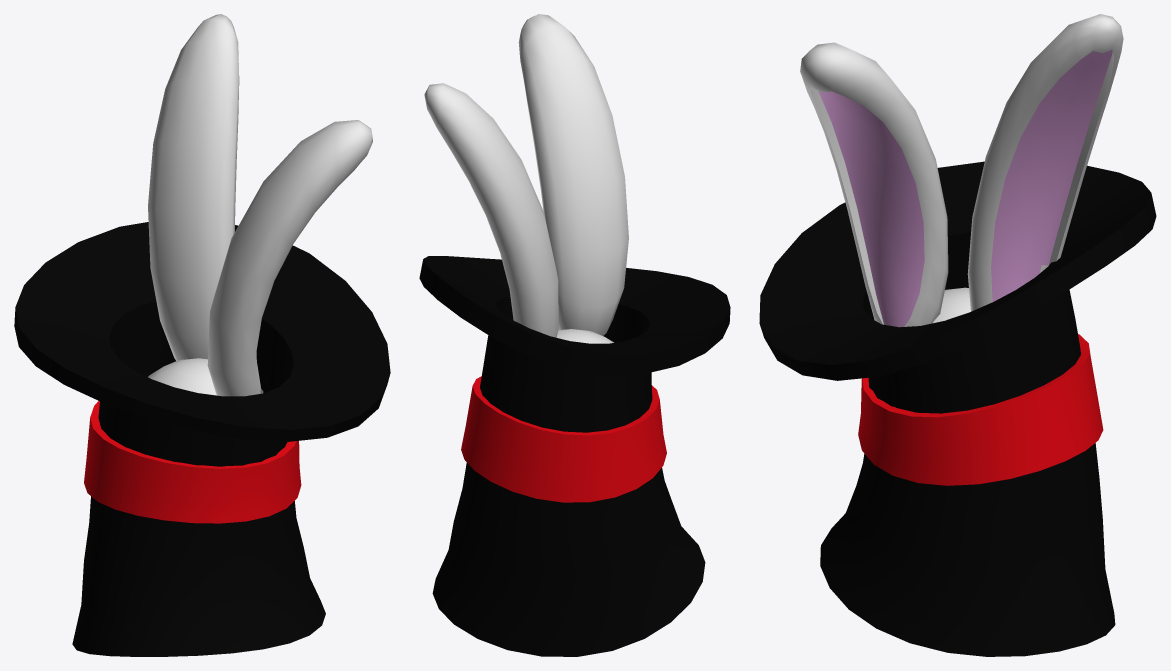
The model's file is Vendedor Rojo.fbx.
The picture shows the model from 3 angles, left to right: view 1: azimuth 30°, elevation 25°; view 2: azimuth 150°, elevation 25°; view 3: azimuth 270°, elevation 25°; orthographic projection. The views are drawn at different scales.
Parts seen in each view (by area): view 1: gemelo b1, gemelo b3, gemelo b2, gemelo b4; view 2: gemelo b1, gemelo b2, gemelo b3, gemelo b4; view 3: gemelo b1, gemelo b3, gemelo b2, gemelo b4.
Part boxes in pixels (<box>): gemelo b1: <box>14,222,390,656</box>; gemelo b3: <box>148,14,239,360</box>; gemelo b2: <box>207,120,372,396</box>; gemelo b4: <box>148,358,216,395</box>; gemelo b1: <box>419,256,730,656</box>; gemelo b2: <box>518,14,628,335</box>; gemelo b3: <box>424,83,558,337</box>; gemelo b4: <box>556,329,613,343</box>; gemelo b1: <box>759,161,1156,656</box>; gemelo b3: <box>967,14,1123,311</box>; gemelo b2: <box>800,42,948,327</box>; gemelo b4: <box>933,287,970,323</box>.
Bounding box in the file's own units: 1606 × 2861 × 1601.
